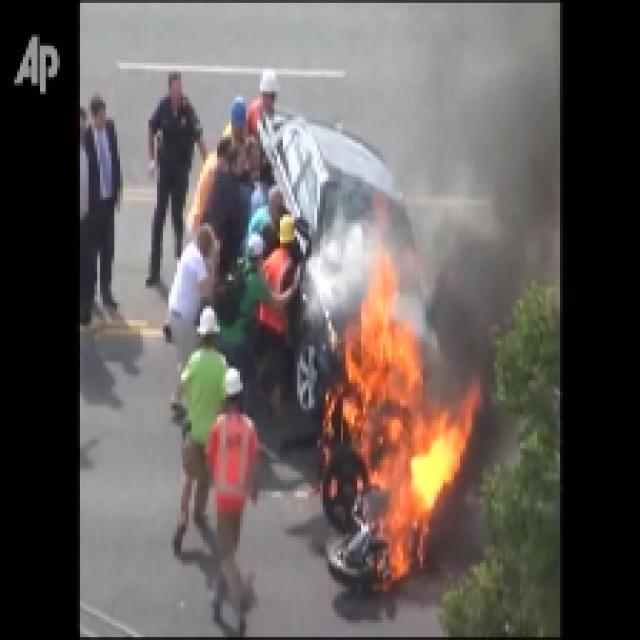fire: (328, 320, 463, 587)
smoke: (412, 5, 554, 301)
